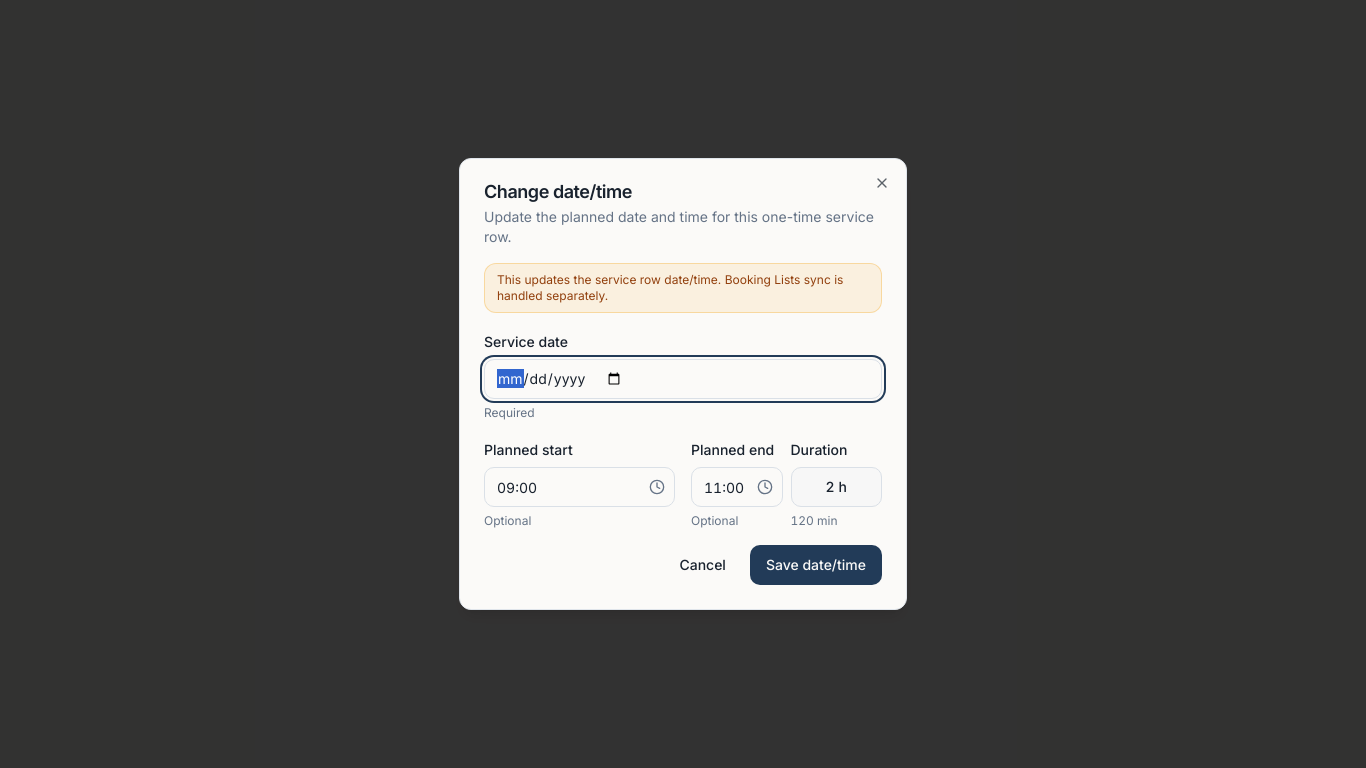
Test case: CORE-WRITES-WORKORDERS-A1.2.4a ChangeDateTimeDialog › rejects missing service date before mutation
The image size is (1366, 768).
What coordinates should you click on to do the following:
click the button "Save date/time"
I would click on:
 (816, 565)
Its box is [750,545,882,585].
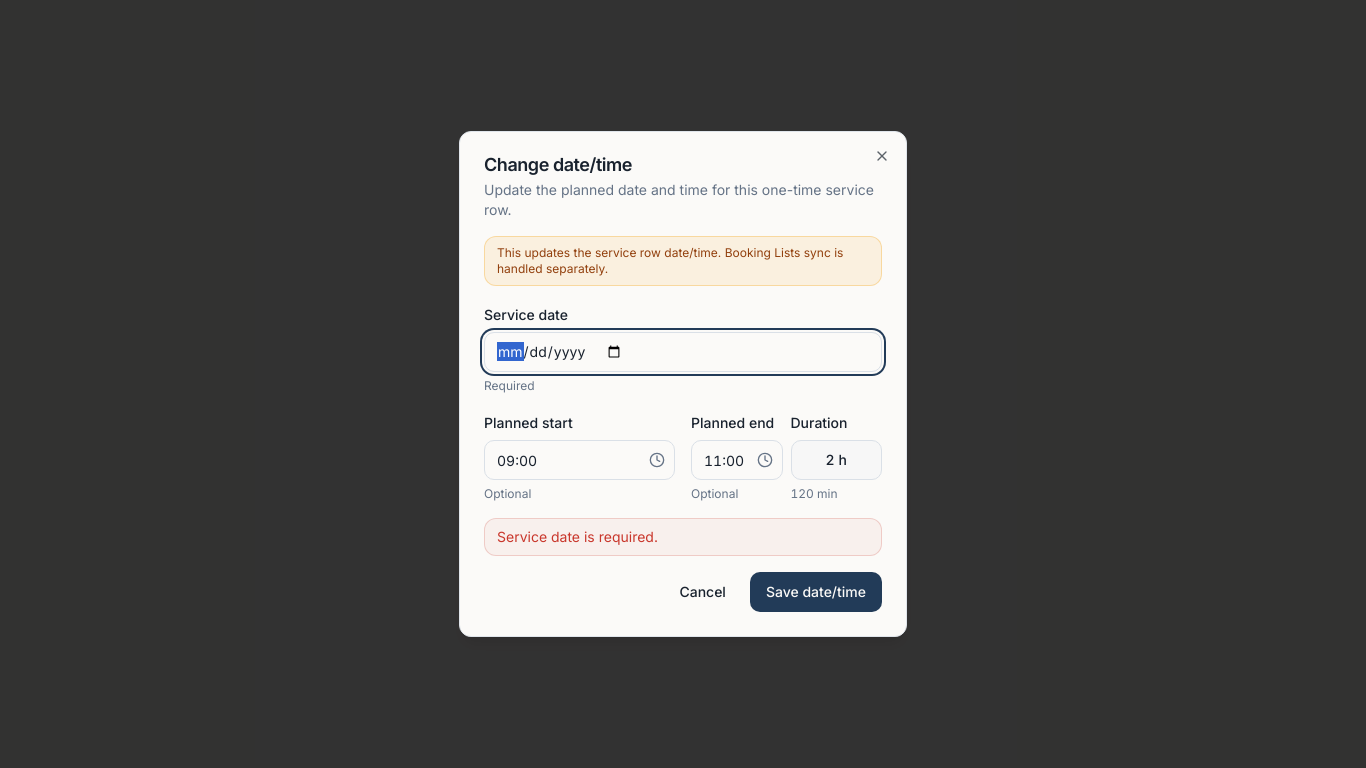
Result: the text "Service date is required." is shown at [484,518,882,556]
